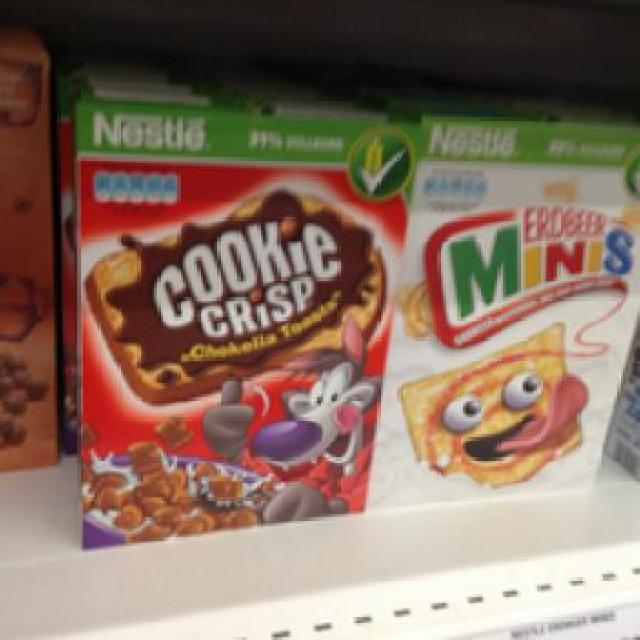Cereal: (68, 99, 424, 552), (400, 111, 637, 512)
